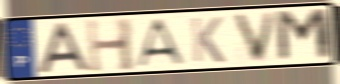A: (35, 20, 92, 75), (134, 17, 188, 69)
H: (84, 17, 138, 75)
K: (188, 16, 226, 64)
M: (273, 7, 335, 64)
V: (230, 10, 279, 65)
